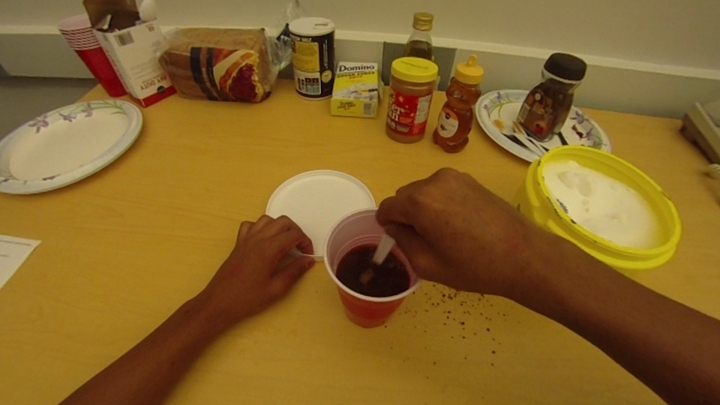hand: (371, 169, 547, 303), (212, 211, 313, 312)
